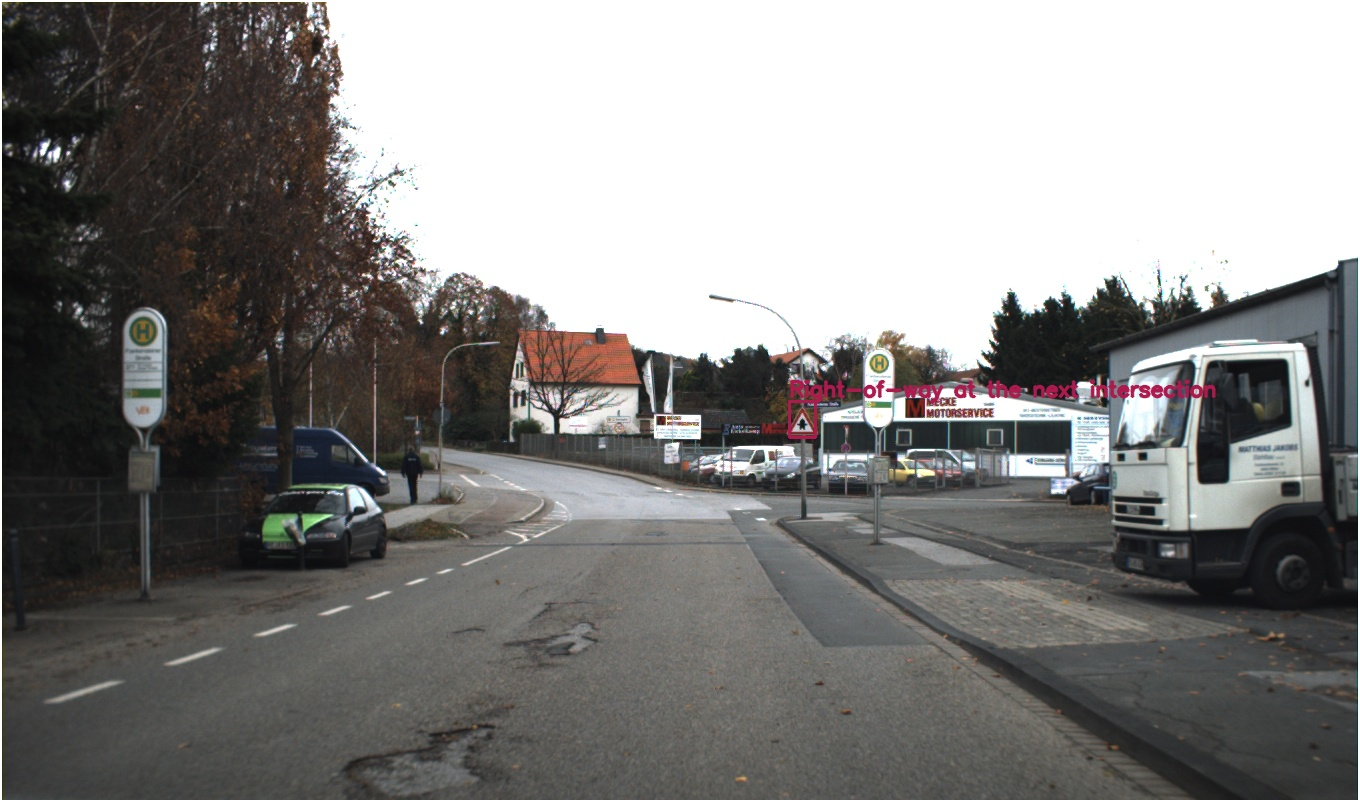Speed limit (30km/h): (985, 354, 1022, 390)
